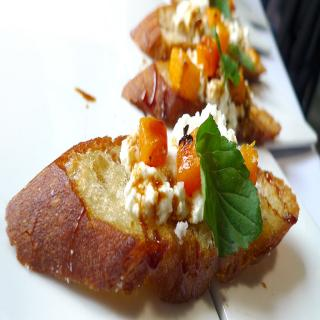Bread: (5, 133, 300, 305)
